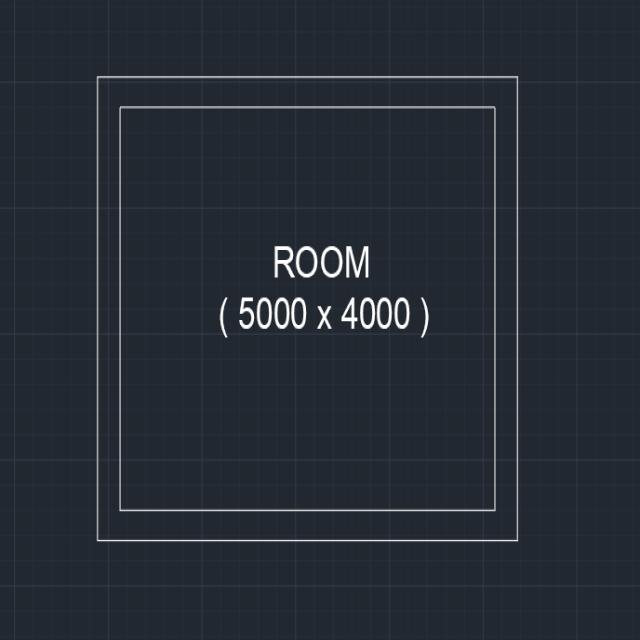Measurement: (215, 284, 433, 349)
